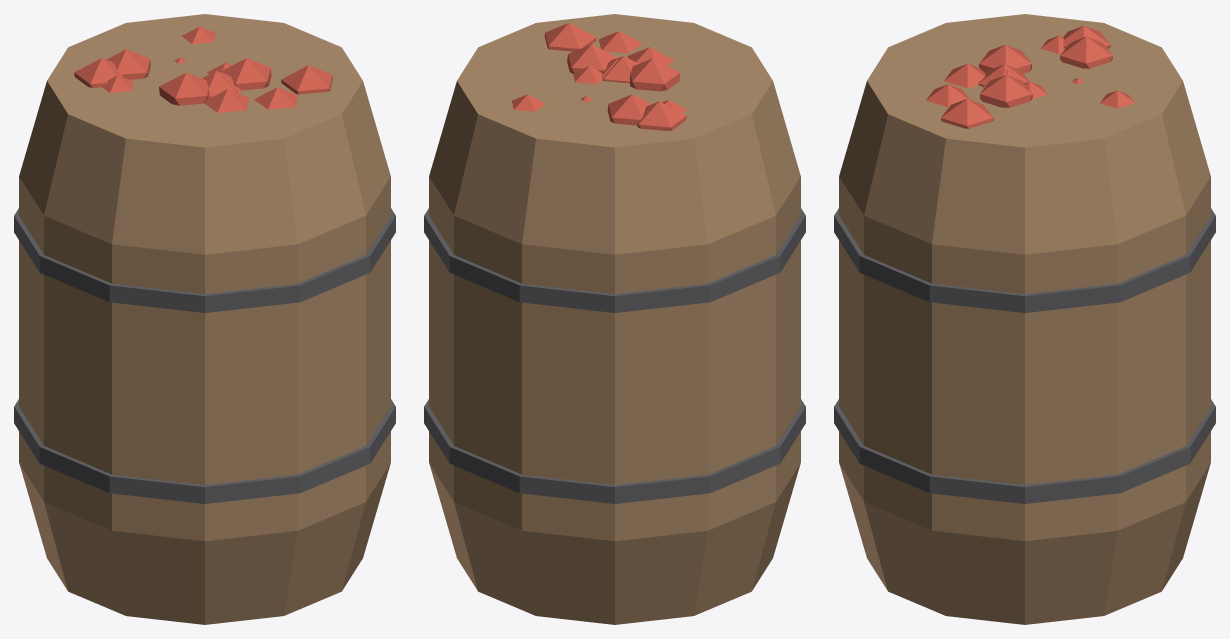
File: SM_Barrel_Apples.glb
The picture shows the model from 3 angles, left to right: view 1: azimuth 30°, elevation 25°; view 2: azimuth 150°, elevation 25°; view 3: azimuth 270°, elevation 25°; orthographic projection.
Visible parts, largest first — view 1: SM_Barrel_Apples; view 2: SM_Barrel_Apples; view 3: SM_Barrel_Apples.
Part boxes in pixels (x1,y1,x2,y2): SM_Barrel_Apples: (14,14,395,624); SM_Barrel_Apples: (424,14,805,624); SM_Barrel_Apples: (834,14,1215,624).
Bounding box in the file's own units: 0.616 × 0.8899 × 0.616.
